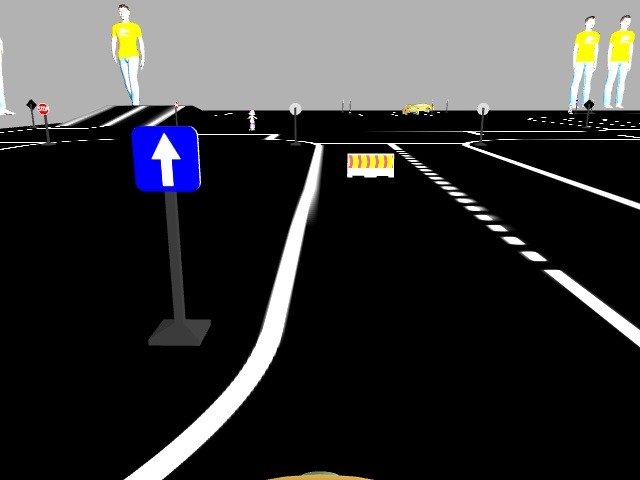ClosedRoadStand: (348, 154, 394, 178)
OneWay: (133, 127, 199, 189)
